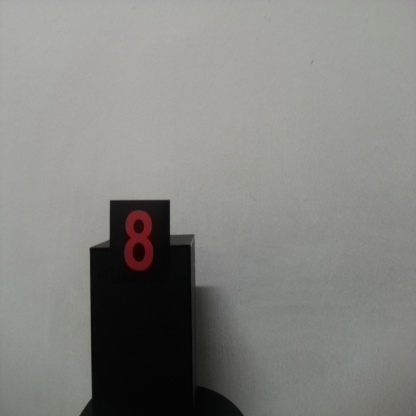id_8: (110, 201, 171, 291)
